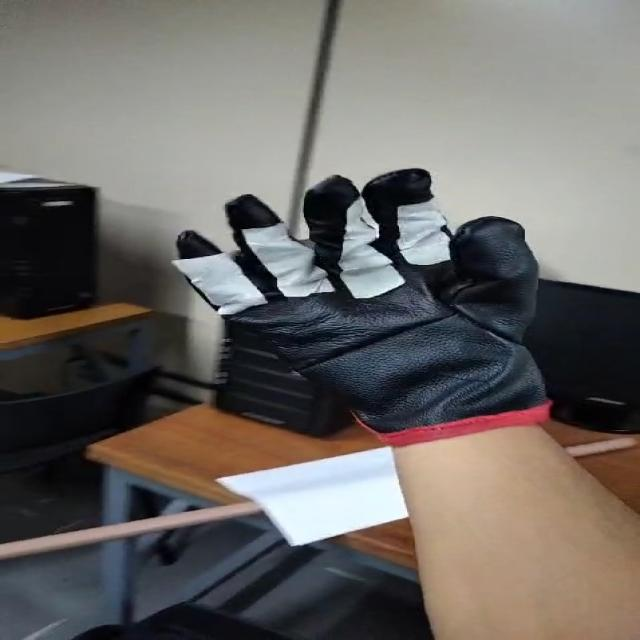Gloves: (180, 160, 556, 450)
